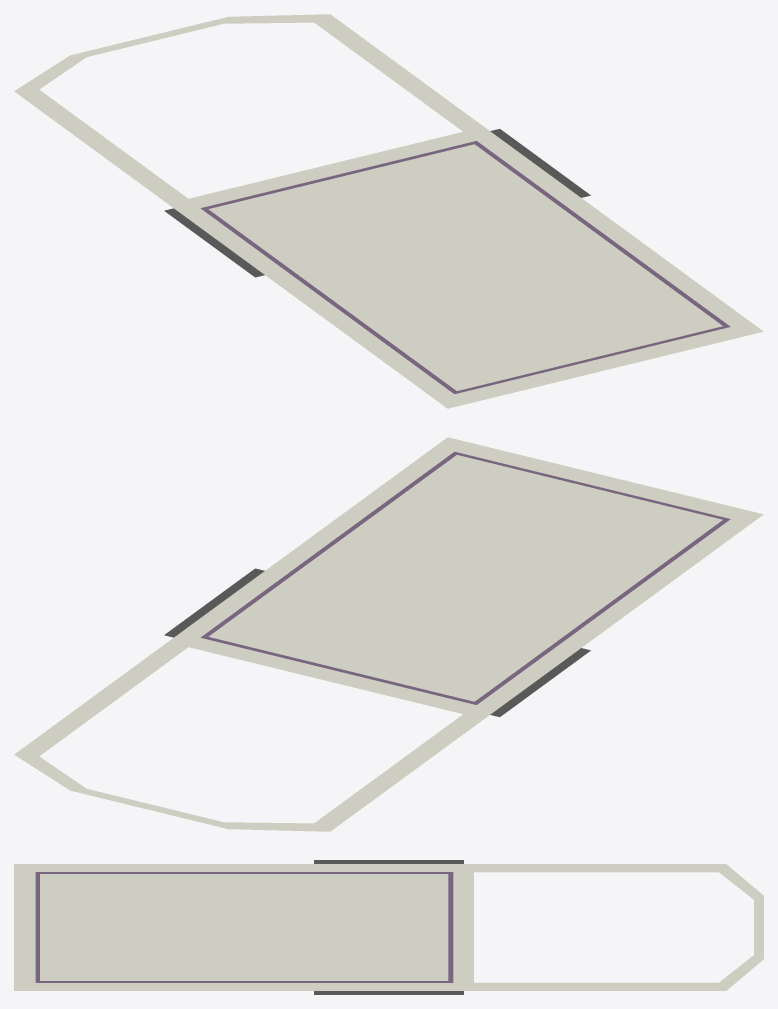
The model's file is Lift_Floor_Level_01_Mesh.fbx.
3 renders of one model, top to bottom at view 1: azimuth 30°, elevation 25°; view 2: azimuth 150°, elevation 25°; view 3: azimuth 270°, elevation 25°, orthographic. The views are drawn at different scales.
Parts seen in each view (by area): view 1: Lift_Floor_Level_01_Mesh; view 2: Lift_Floor_Level_01_Mesh; view 3: Lift_Floor_Level_01_Mesh.
Boxes of the visible parts, left/top/right/bottom form: Lift_Floor_Level_01_Mesh: left=14, top=14, right=763, bottom=408; Lift_Floor_Level_01_Mesh: left=14, top=437, right=763, bottom=831; Lift_Floor_Level_01_Mesh: left=14, top=860, right=763, bottom=994.
Bounding box in the file's own units: 1700 × 0 × 4000.
